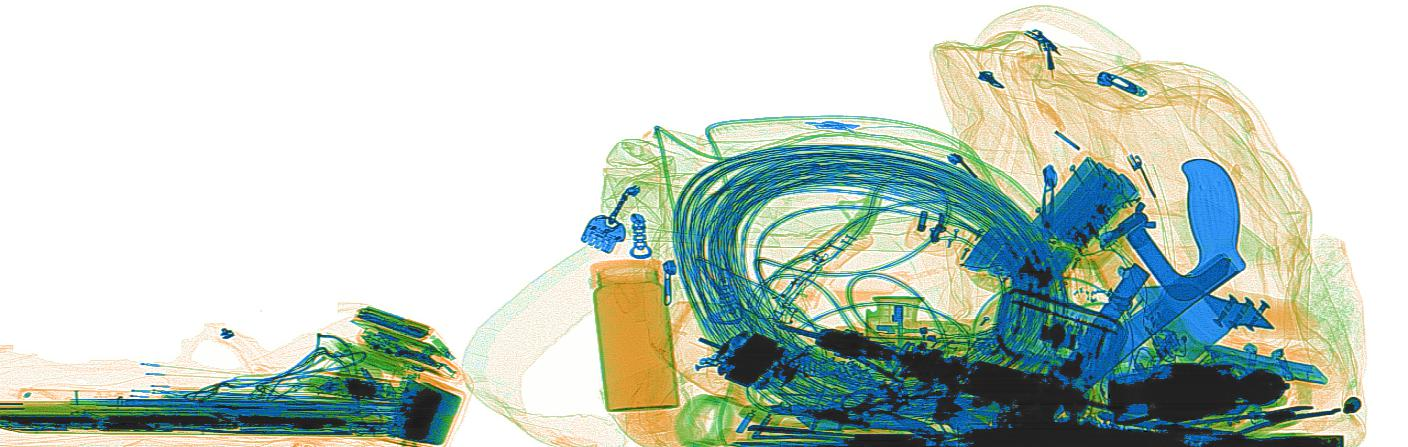battery: (1027, 154, 1139, 246), (960, 223, 1078, 293)
knife: (1199, 342, 1329, 385)
